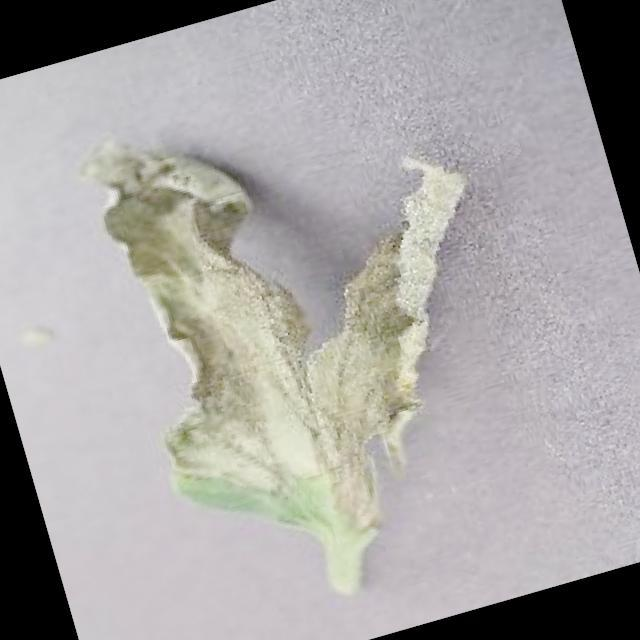Tomato late blight leaf: (73, 44, 551, 569)
